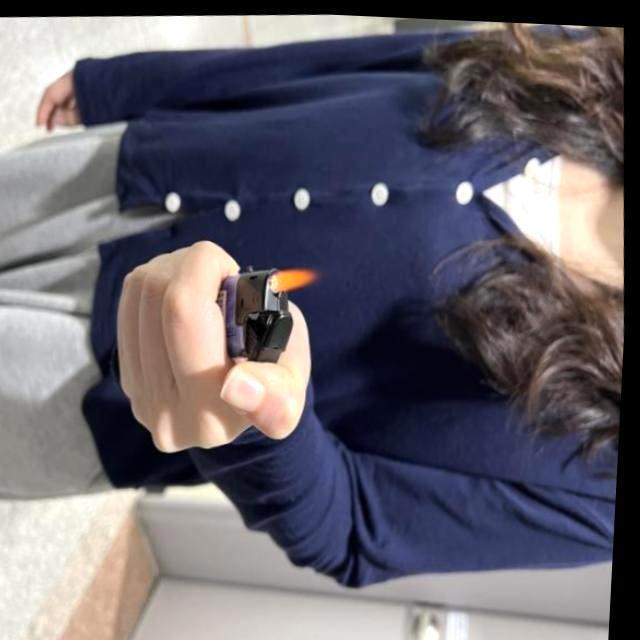fire: (271, 263, 331, 291)
